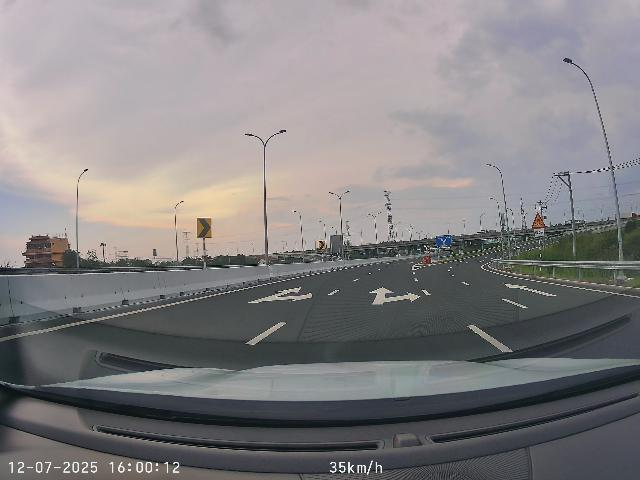245-di-cham: (531, 212, 546, 228)
